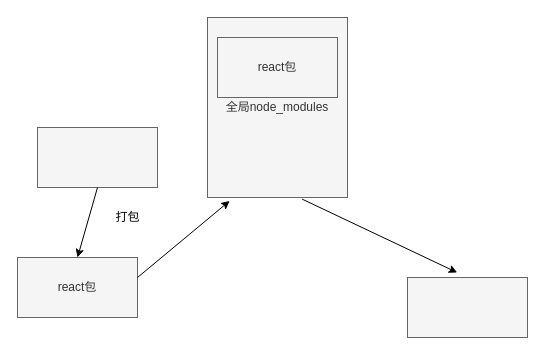
Image size: 545x355. Some labels were removed from this diagram. Each missing label, with the centre of its shape:
big-react: the point at 97,157
Demo项目: the point at 467,307
